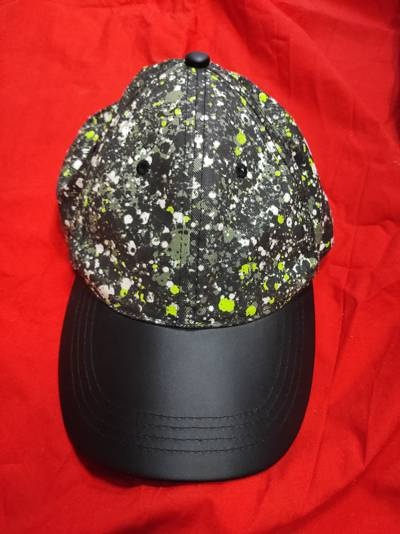Hat: (39, 39, 352, 513)
